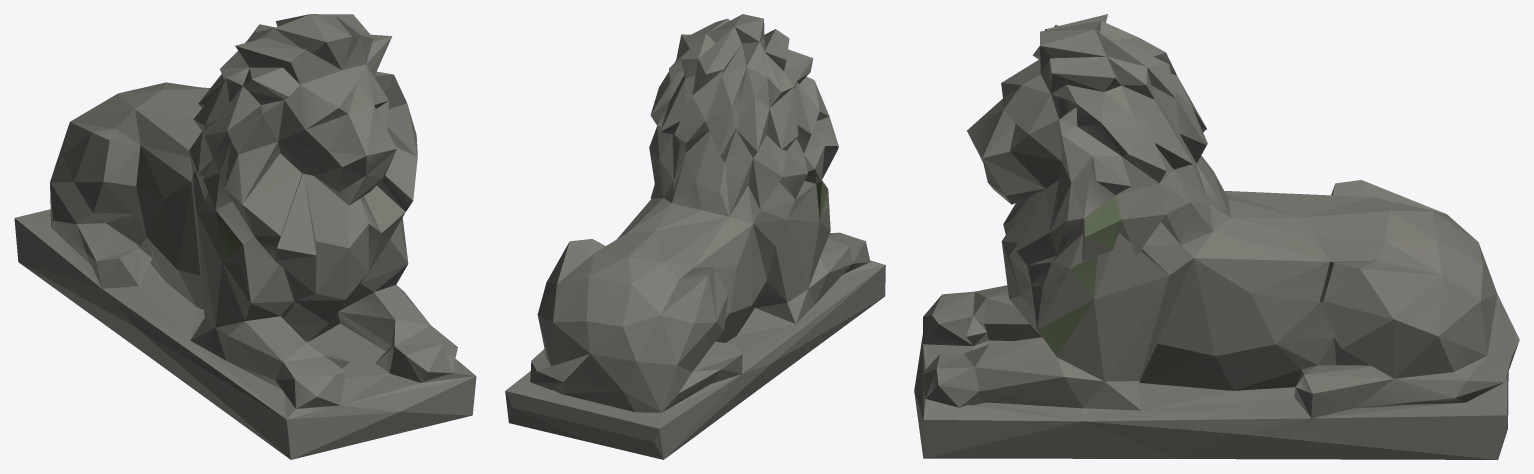
File: lion-700.glb
The picture shows the model from 3 angles, left to right: view 1: azimuth 30°, elevation 25°; view 2: azimuth 150°, elevation 25°; view 3: azimuth 270°, elevation 25°; orthographic projection. The views are drawn at different scales.
Parts seen in each view (by area): view 1: Lion-700; view 2: Lion-700; view 3: Lion-700.
Boxes of the visible parts, <box> form: Lion-700: <box>14,14,476,459</box>; Lion-700: <box>505,14,885,459</box>; Lion-700: <box>914,14,1519,459</box>.
Bounding box in the file's own units: 0.4209 × 0.7074 × 1.
